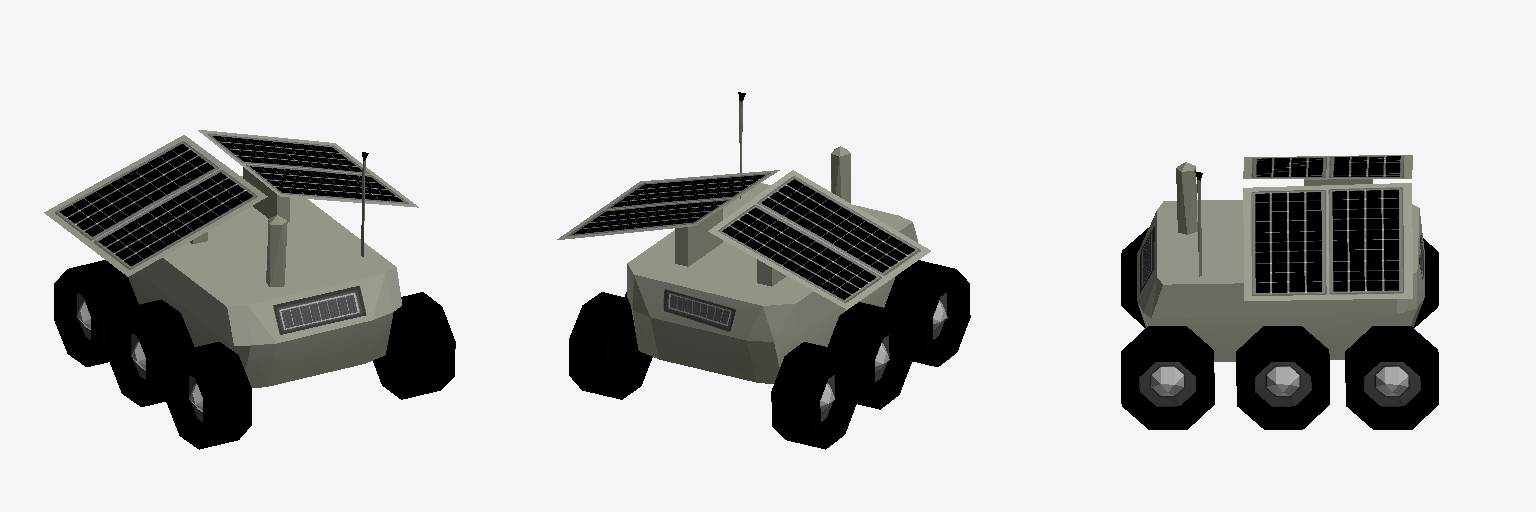
The picture shows the model from 3 angles: view 1: azimuth 30°, elevation 25°; view 2: azimuth 150°, elevation 25°; view 3: azimuth 270°, elevation 25°; orthographic projection.
Visible parts, largest first — view 1: Rover_Cylinder.008; view 2: Rover_Cylinder.008; view 3: Rover_Cylinder.008.
Boxes of the visible parts, x1,y1,x2,y2 form: Rover_Cylinder.008: [44, 130, 455, 449]; Rover_Cylinder.008: [557, 92, 970, 449]; Rover_Cylinder.008: [1121, 155, 1438, 429].
Bounding box in the file's own units: 1.78 × 1.35 × 1.68.
1 materials, 1 textured.